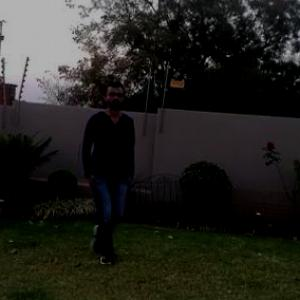follow: (85, 79, 134, 261)
